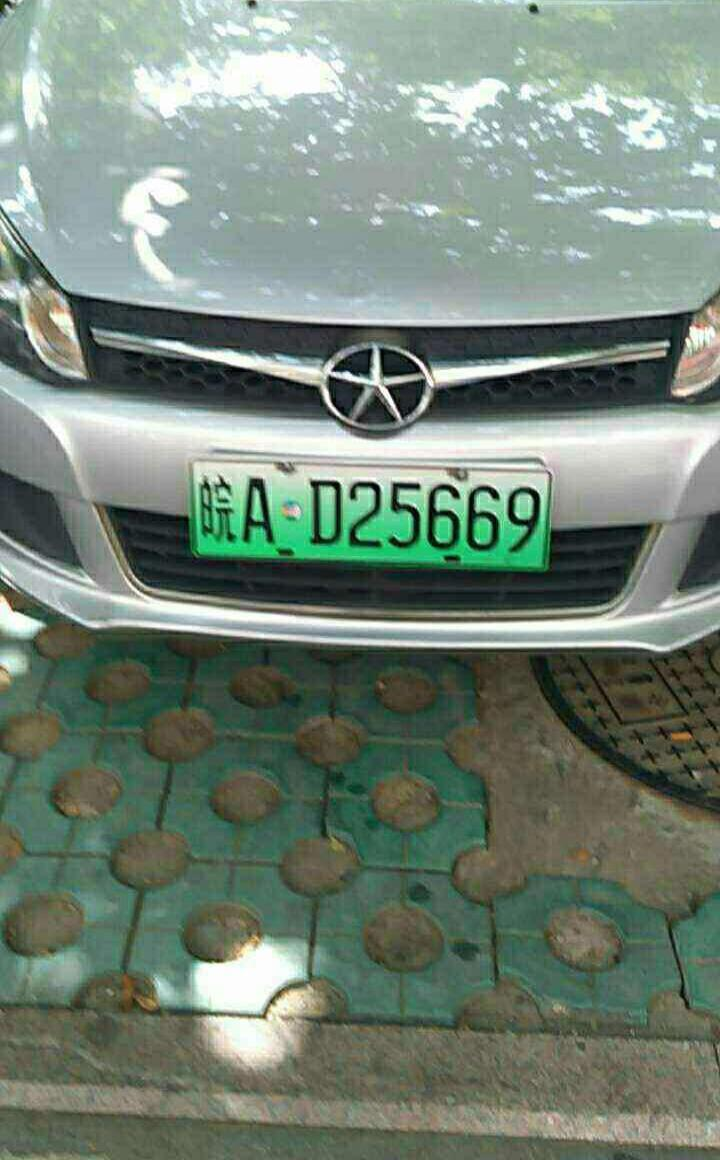car_id: (195, 464, 549, 566)
